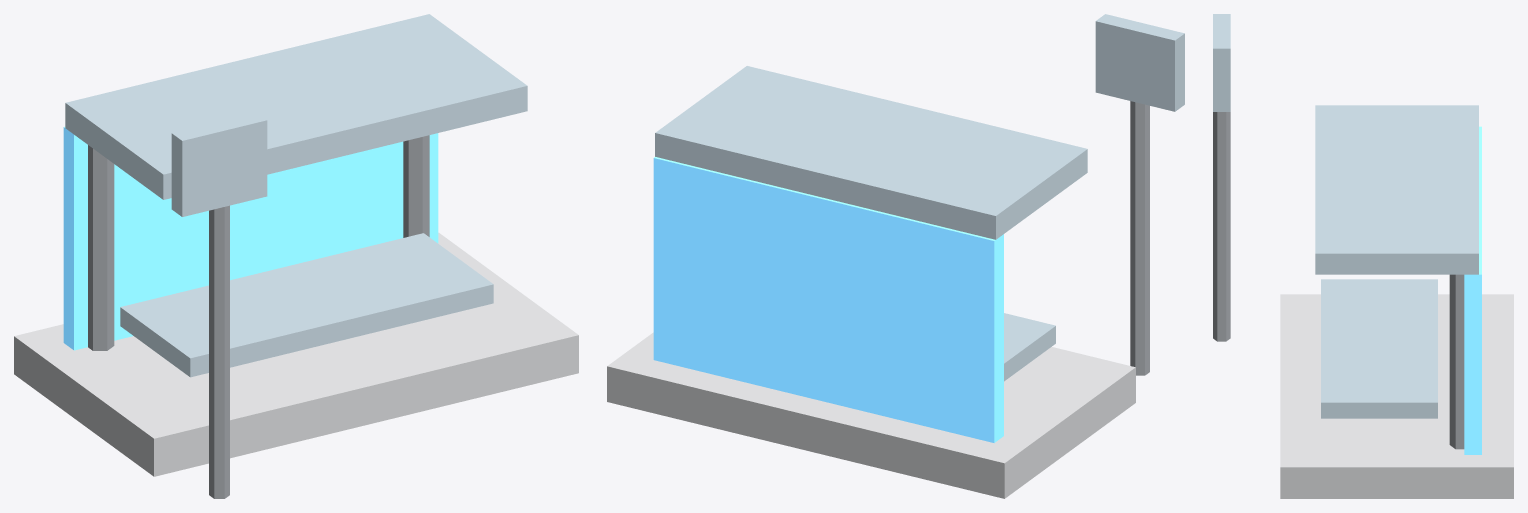
Rendered from busstop.glb.
The picture shows the model from 3 angles, left to right: view 1: azimuth 30°, elevation 25°; view 2: azimuth 150°, elevation 25°; view 3: azimuth 270°, elevation 25°; orthographic projection. The views are drawn at different scales.
Parts seen in each view (by area): view 1: busstop; view 2: busstop; view 3: busstop.
Boxes of the visible parts, x1,y1,x2,y2 form: busstop: (14,14,578,498); busstop: (607,14,1184,498); busstop: (1213,14,1513,498).
Bounding box in the file's own units: 0.72 × 0.58 × 0.515.
